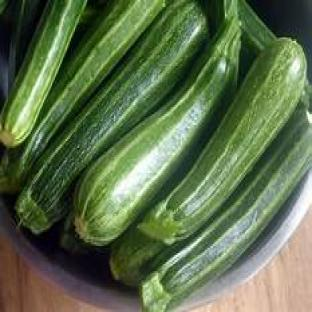Zucchini: (74, 20, 241, 246), (140, 38, 306, 244), (141, 116, 311, 311), (232, 107, 307, 197), (59, 213, 91, 254)
